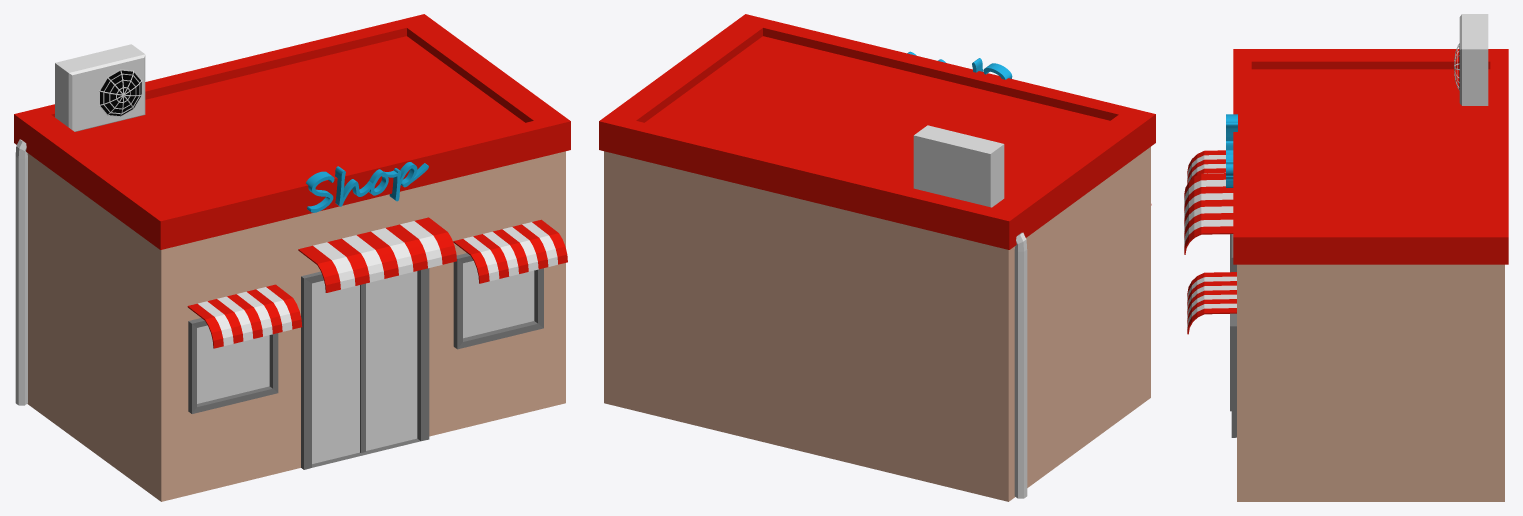
File: Selling Shop.fbx
3 renders of one model, left to right at view 1: azimuth 30°, elevation 25°; view 2: azimuth 150°, elevation 25°; view 3: azimuth 270°, elevation 25°, orthographic. The views are drawn at different scales.
Visible parts, largest first — view 1: Roof, door, Shade, window, AC, pipe, Text; view 2: Roof, AC, pipe; view 3: Roof, Shade, AC, Text.
Part boxes in pixels (<box>): Roof: <box>14,14,570,501</box>; door: <box>312,271,417,463</box>; Shade: <box>187,217,567,348</box>; window: <box>197,261,534,403</box>; AC: <box>55,44,145,131</box>; pipe: <box>15,139,27,405</box>; Text: <box>306,162,428,212</box>; Roof: <box>599,14,1155,501</box>; AC: <box>913,125,1004,207</box>; pipe: <box>1014,232,1027,498</box>; Roof: <box>1230,49,1508,501</box>; Shade: <box>1184,150,1236,334</box>; AC: <box>1454,14,1488,105</box>; Text: <box>1226,114,1237,187</box>.
Bounding box in the file's own units: 338 × 260 × 242.
